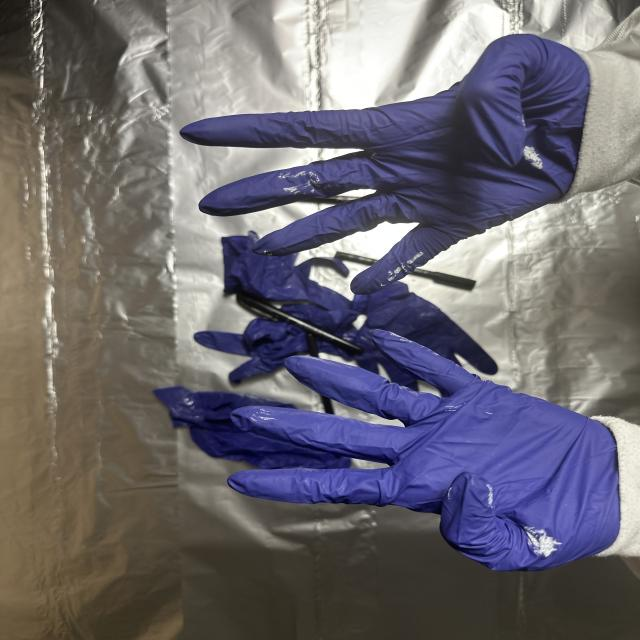gloves_contaminated: (181, 35, 590, 294), (228, 330, 637, 570)
